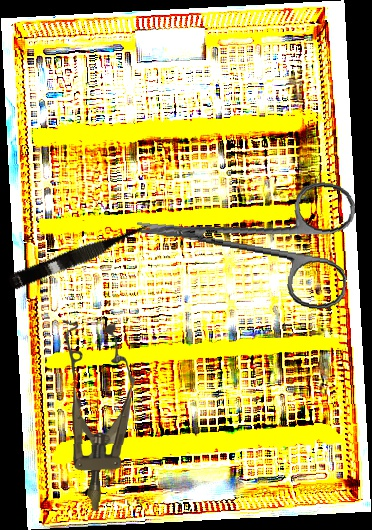Iris Scissors: (129, 159, 358, 313)
Micro Scissor: (6, 217, 158, 295)
Speculum: (58, 320, 136, 512)
